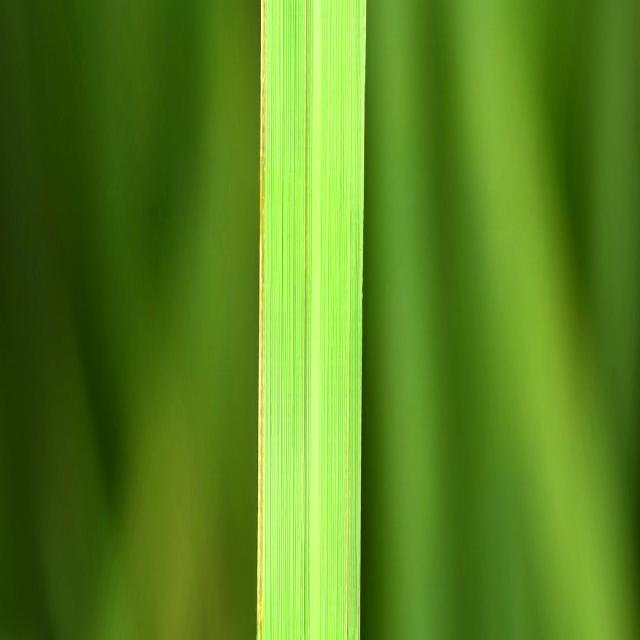BLS: (259, 0, 267, 640), (346, 320, 349, 640)
